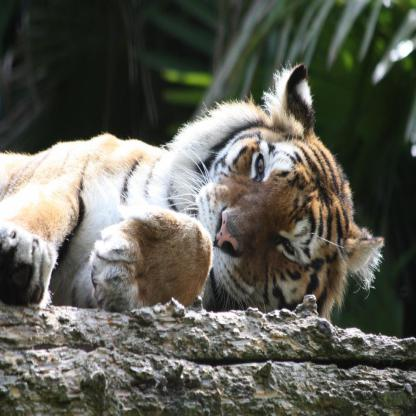Tiger: (0, 58, 385, 324)
